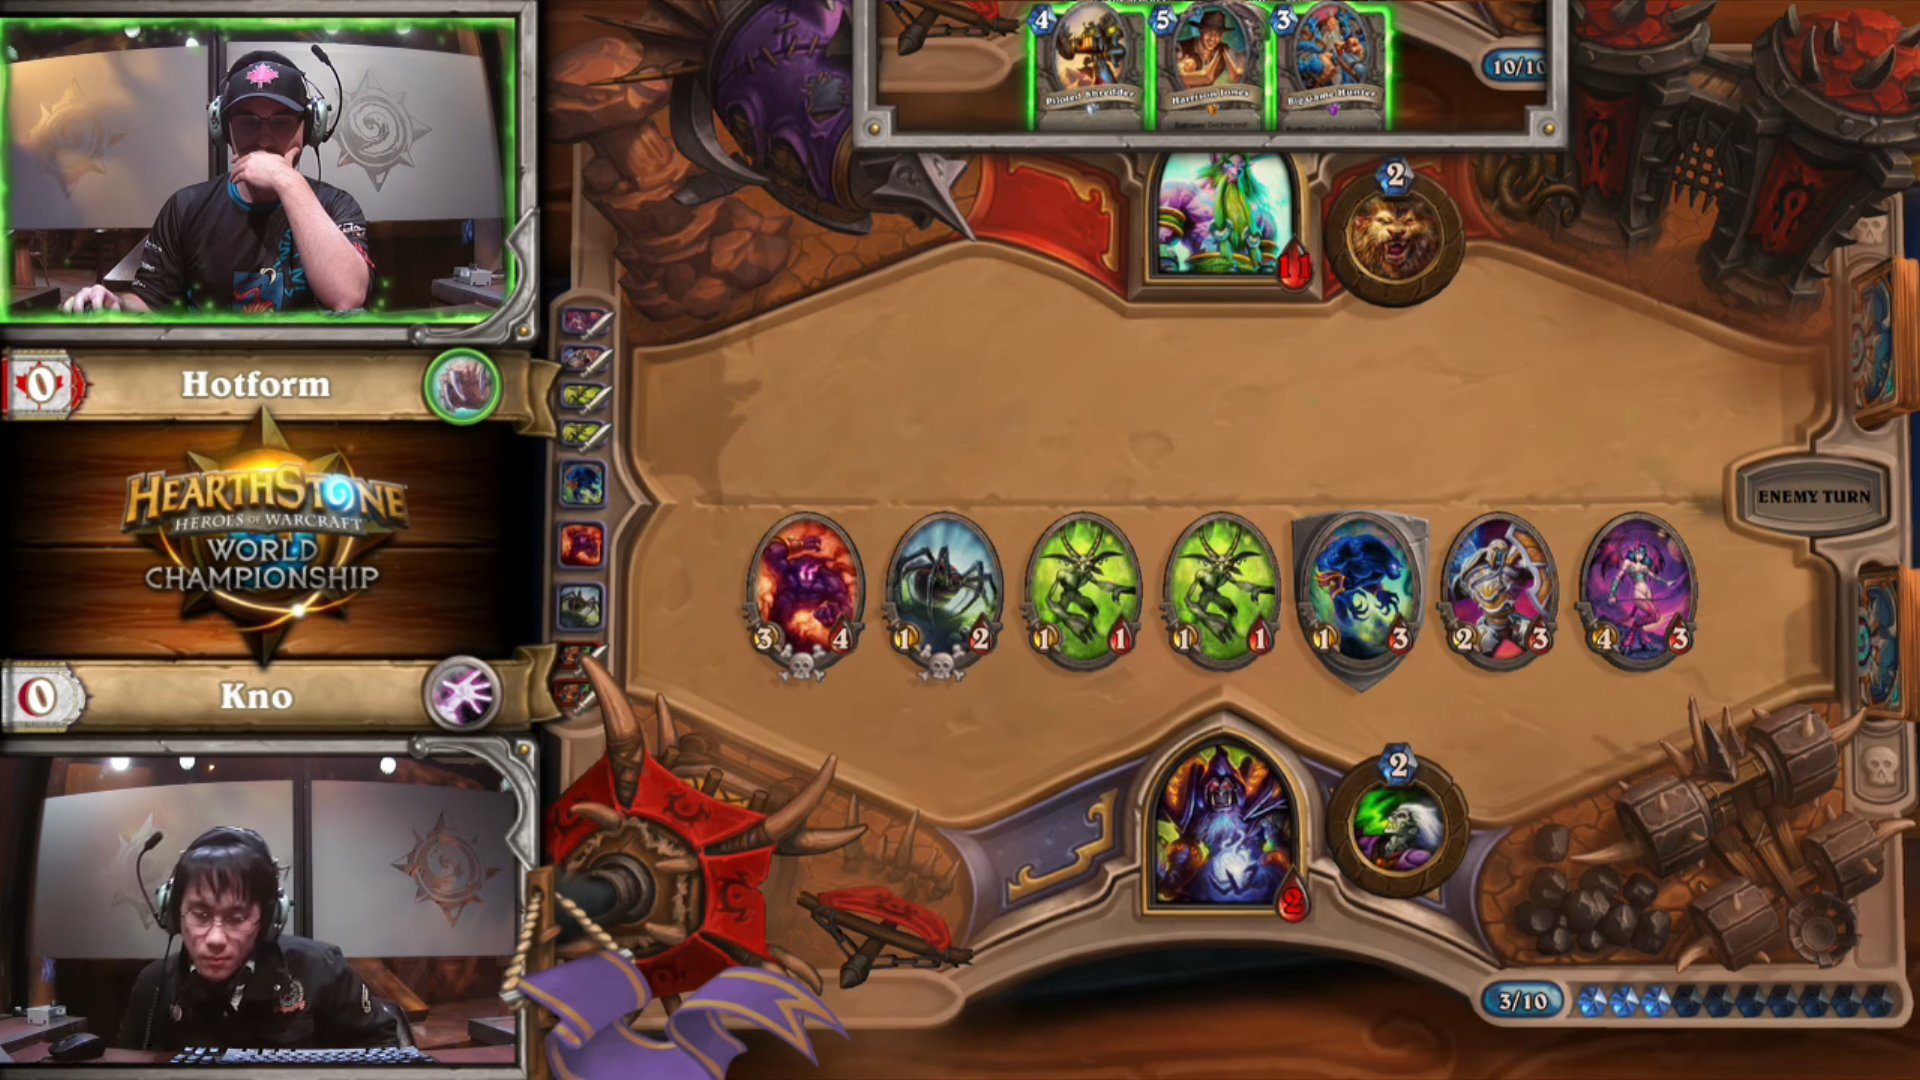card: (1023, 1, 1156, 135), (1259, 1, 1393, 135), (1145, 1, 1276, 135)
